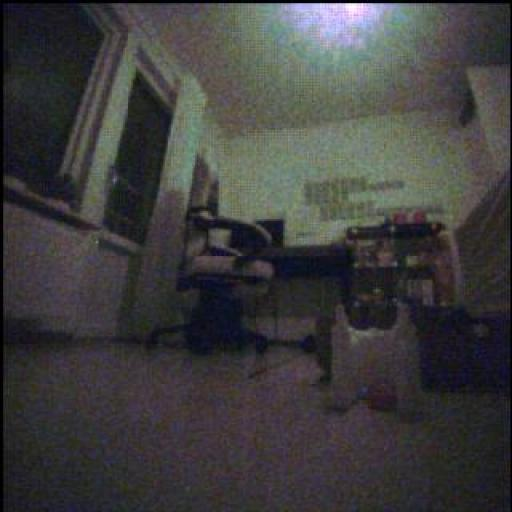basket: (368, 376, 398, 411)
